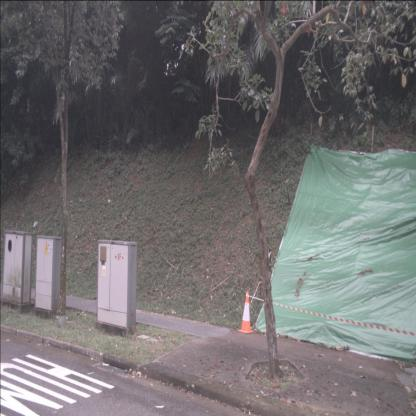cone: (238, 292, 254, 334)
